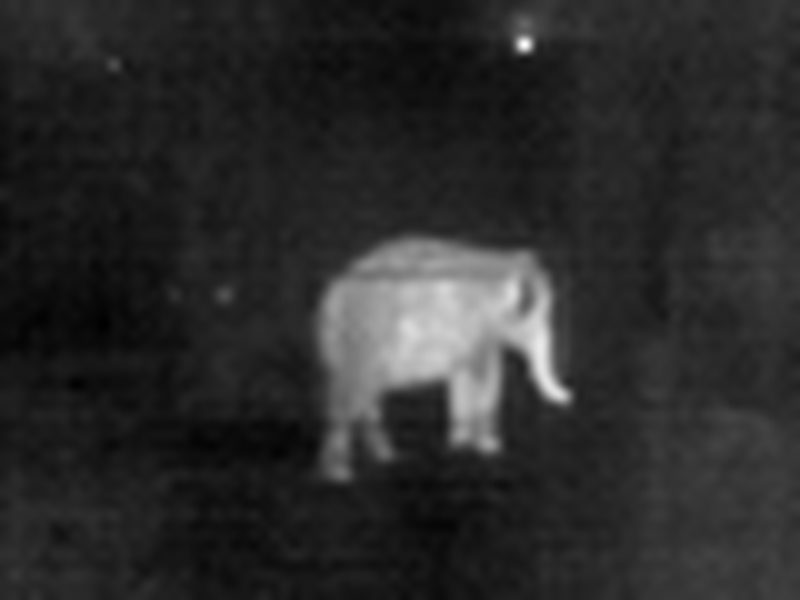elephant: (320, 240, 568, 466)
